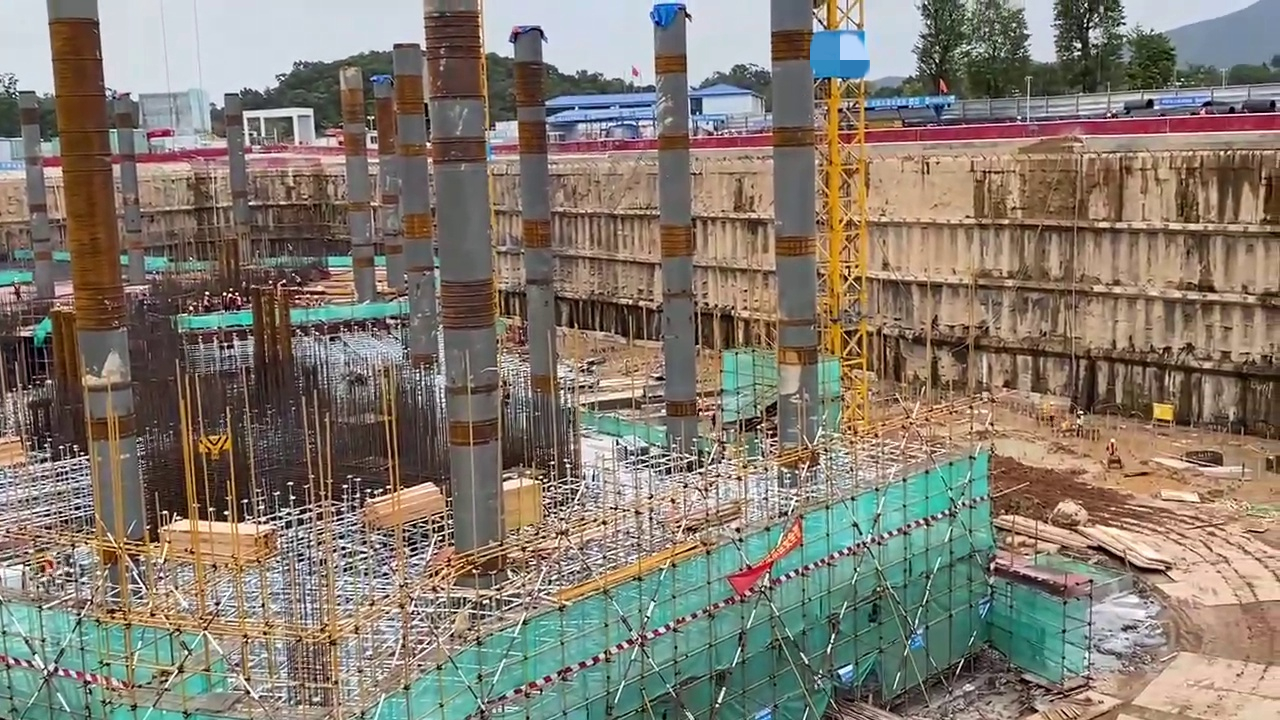board: (1084, 521, 1166, 572)
hook: (195, 435, 229, 457)
wood: (159, 511, 277, 565), (360, 481, 444, 514)
